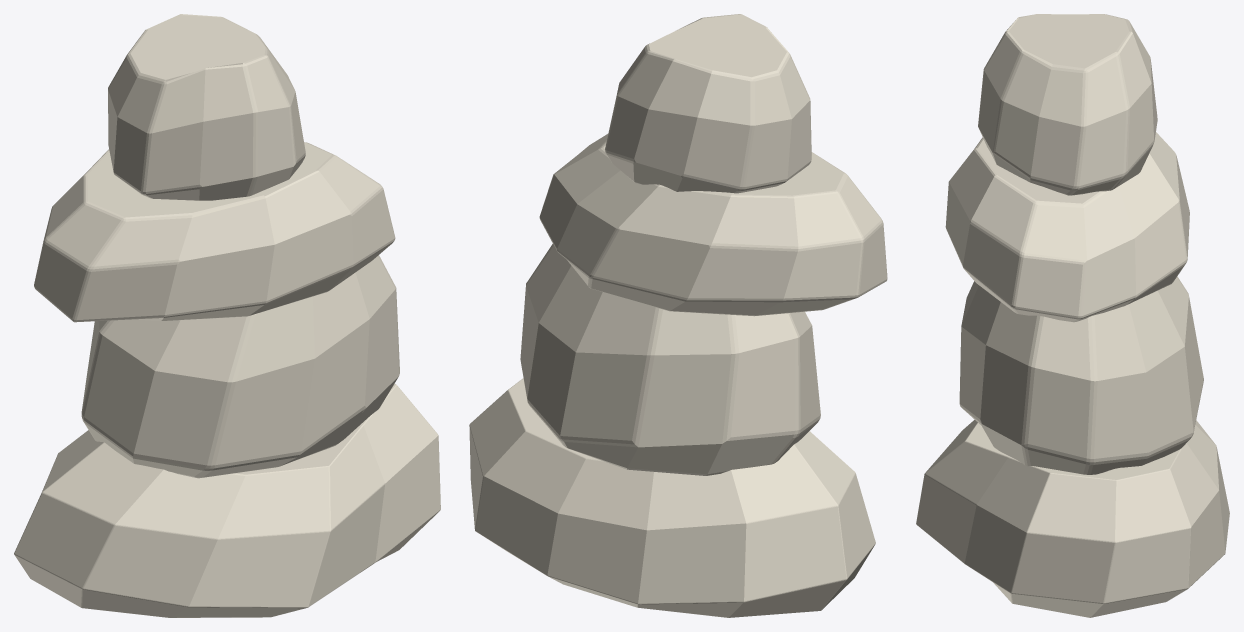
The model's file is Test_CheonRef_CairnC.fbx.
3 renders of one model, left to right at view 1: azimuth 30°, elevation 25°; view 2: azimuth 150°, elevation 25°; view 3: azimuth 270°, elevation 25°, orthographic. The views are drawn at different scales.
Parts seen in each view (by area): view 1: BalancedCairnStone.007, BalancedCairnStone.008, BalancedCairnStone.009, BalancedCairnStone.010; view 2: BalancedCairnStone.007, BalancedCairnStone.008, BalancedCairnStone.009, BalancedCairnStone.010; view 3: BalancedCairnStone.007, BalancedCairnStone.008, BalancedCairnStone.009, BalancedCairnStone.010.
Part boxes in pixels (x1,y1,x2,y2): BalancedCairnStone.007: [14, 383, 440, 617]; BalancedCairnStone.008: [81, 255, 399, 478]; BalancedCairnStone.009: [34, 142, 395, 322]; BalancedCairnStone.010: [108, 14, 305, 200]; BalancedCairnStone.007: [469, 378, 875, 617]; BalancedCairnStone.008: [520, 244, 820, 475]; BalancedCairnStone.009: [539, 134, 887, 316]; BalancedCairnStone.010: [605, 14, 811, 193]; BalancedCairnStone.007: [916, 419, 1229, 617]; BalancedCairnStone.008: [959, 276, 1203, 474]; BalancedCairnStone.009: [945, 132, 1189, 322]; BalancedCairnStone.010: [978, 14, 1157, 195].
Size of the model in its own units: 152 by 195 by 111.
